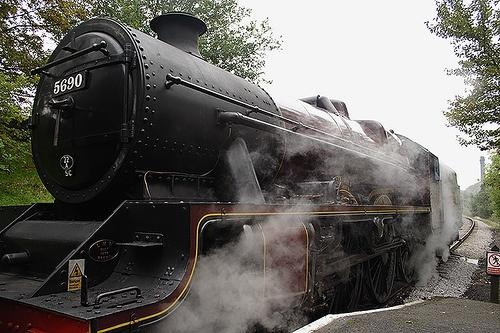train: (1, 11, 461, 333)
